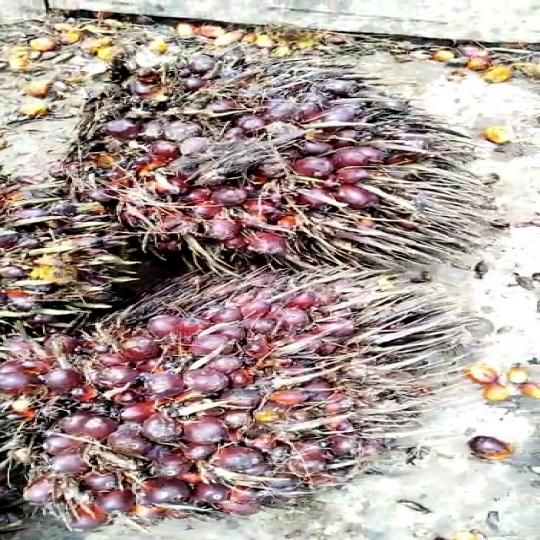masak: (0, 271, 442, 533), (69, 53, 484, 275)
